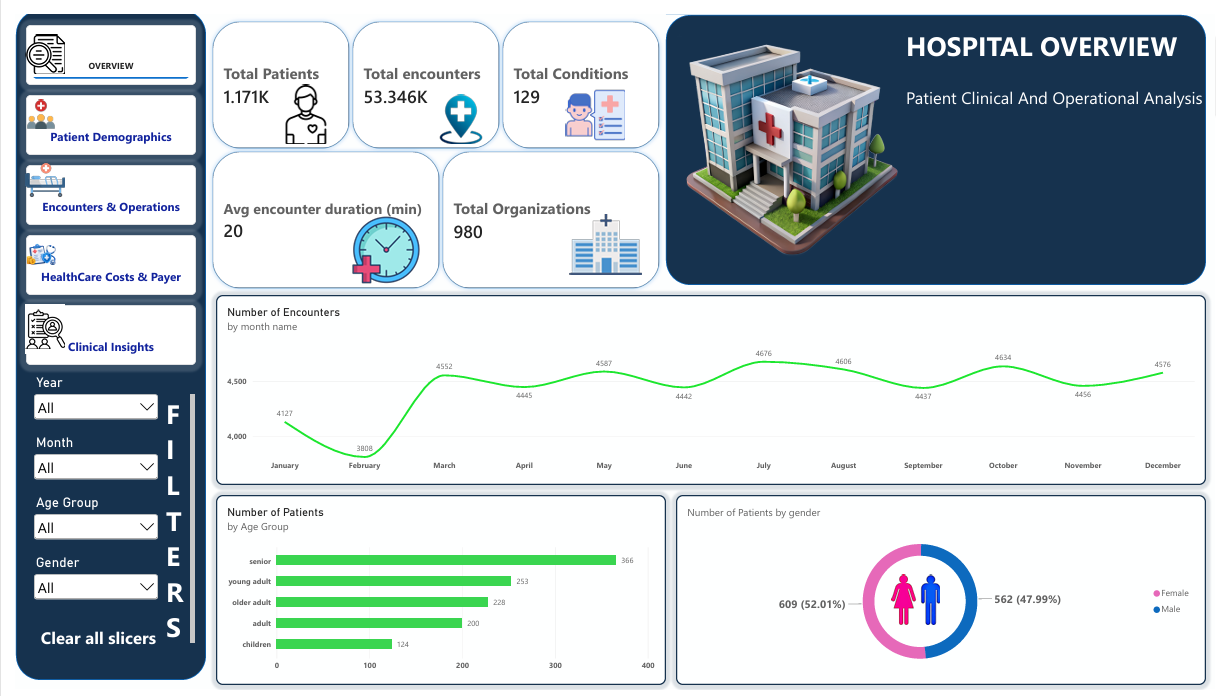

What the dashboard file says about the page in this screenshot:
{"tool":"powerbi","page":{"name":"OVERVIEW","canvas":[1920,1080],"ordinal":0},"visuals":[{"type":"shape","box":[1040,0,864,432],"z":0},{"type":"shape","box":[0,-8,304,1072],"z":1000},{"type":"slicer","fields":{"Values":["encounters.year"]},"box":[24,576,208,80],"z":2000},{"type":"textbox","box":[1424,0,480,192],"z":3000},{"type":"cardVisual","fields":{"Data":["encounters.average_encounter_time(minutes)"]},"box":[304,208,384,240],"z":4000},{"type":"cardVisual","fields":{"Data":["conditions.distinct_conditions"]},"box":[768,0,272,224],"z":5000},{"type":"cardVisual","fields":{"Data":["Count(patients.patient_id)"]},"box":[304,0,240,224],"z":6000},{"type":"cardVisual","fields":{"Data":["CountNonNull(encounters.encounter_id)"]},"box":[528,0,256,224],"z":7000},{"type":"cardVisual","fields":{"Data":["organizations.total_organizations"]},"box":[672,208,368,240],"z":8000},{"type":"lineChart","fields":{"Category":["encounters.month name"],"Y":["CountNonNull(encounters.encounter_id)"]},"box":[320,448,1584,304],"z":9000},{"type":"barChart","fields":{"Category":["patients.age_segmentation"],"Y":["CountNonNull(patients.patient_id)"]},"box":[320,768,720,304],"z":10000},{"type":"donutChart","fields":{"Category":["patients.gender"],"Y":["CountNonNull(patients.patient_id)"]},"box":[1056,768,848,304],"z":11000},{"type":"image","box":[1232,896,416,80],"z":12000},{"type":"image","box":[1056,16,368,400],"z":13000},{"type":"slicer","fields":{"Values":["encounters.month name"]},"box":[24,672,208,96],"z":14000},{"type":"slicer","fields":{"Values":["patients.age_segmentation"]},"box":[24,768,208,112],"z":15000},{"type":"slicer","fields":{"Values":["patients.gender"]},"box":[24,864,208,96],"z":16000},{"type":"pageNavigator","title":"Ctrl+Click to follow","box":[16,240,272,96],"z":17000},{"type":"pageNavigator","title":"Ctrl+Click to follow","box":[16,128,272,96],"z":18000},{"type":"pageNavigator","title":"Ctrl+Click to follow","box":[16,464,272,96],"z":19000},{"type":"pageNavigator","title":"Ctrl+Click to follow","box":[16,352,272,96],"z":20000},{"type":"image","box":[368,112,192,96],"z":21000},{"type":"image","box":[624,128,176,80],"z":22000},{"type":"image","box":[832,112,192,96],"z":23000},{"type":"image","box":[512,320,160,112],"z":24000},{"type":"image","box":[848,320,192,96],"z":25000},{"type":"pageNavigator","title":"Ctrl+Click to follow","box":[16,16,272,96],"z":26000},{"type":"actionButton","box":[24,960,216,72],"z":27000},{"type":"textbox","box":[240,608,48,408],"z":29000},{"type":"image","box":[0,32,96,64],"z":31000},{"type":"image","box":[16,128,48,64],"z":32000},{"type":"image","box":[16,224,64,80],"z":33000},{"type":"image","box":[0,336,80,96],"z":34000},{"type":"image","box":[16,464,64,80],"z":34001}]}

Visuals, with their boxes in screenshot pixels (x1, y1, x2, y2), scaled from the page's 1920x1080 canvas onto the 1227x696 screenshot:
shape: bbox(665, 0, 1217, 278)
shape: bbox(0, 0, 194, 686)
slicer - encounters.year: bbox(15, 371, 148, 423)
textbox: bbox(910, 0, 1217, 124)
cardVisual - encounters.average_encounter_time(minutes): bbox(194, 134, 440, 289)
cardVisual - conditions.distinct_conditions: bbox(491, 0, 665, 144)
cardVisual - Count(patients.patient_id): bbox(194, 0, 348, 144)
cardVisual - CountNonNull(encounters.encounter_id): bbox(337, 0, 501, 144)
cardVisual - organizations.total_organizations: bbox(429, 134, 665, 289)
lineChart - encounters.month name x CountNonNull(encounters.encounter_id): bbox(204, 289, 1217, 485)
barChart - patients.age_segmentation x CountNonNull(patients.patient_id): bbox(204, 495, 665, 691)
donutChart - patients.gender x CountNonNull(patients.patient_id): bbox(675, 495, 1217, 691)
image: bbox(787, 577, 1053, 629)
image: bbox(675, 10, 910, 268)
slicer - encounters.month name: bbox(15, 433, 148, 495)
slicer - patients.age_segmentation: bbox(15, 495, 148, 567)
slicer - patients.gender: bbox(15, 557, 148, 619)
"Ctrl+Click to follow" pageNavigator: bbox(10, 155, 184, 217)
"Ctrl+Click to follow" pageNavigator: bbox(10, 82, 184, 144)
"Ctrl+Click to follow" pageNavigator: bbox(10, 299, 184, 361)
"Ctrl+Click to follow" pageNavigator: bbox(10, 227, 184, 289)
image: bbox(235, 72, 358, 134)
image: bbox(399, 82, 511, 134)
image: bbox(532, 72, 654, 134)
image: bbox(327, 206, 429, 278)
image: bbox(542, 206, 665, 268)
"Ctrl+Click to follow" pageNavigator: bbox(10, 10, 184, 72)
actionButton: bbox(15, 619, 153, 665)
textbox: bbox(153, 392, 184, 655)
image: bbox(0, 21, 61, 62)
image: bbox(10, 82, 41, 124)
image: bbox(10, 144, 51, 196)
image: bbox(0, 217, 51, 278)
image: bbox(10, 299, 51, 351)
